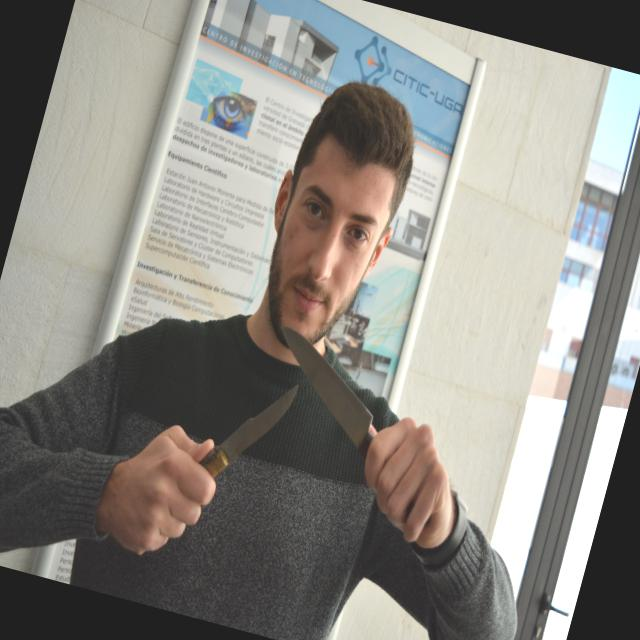knife: (248, 318, 402, 467), (186, 358, 301, 504)
